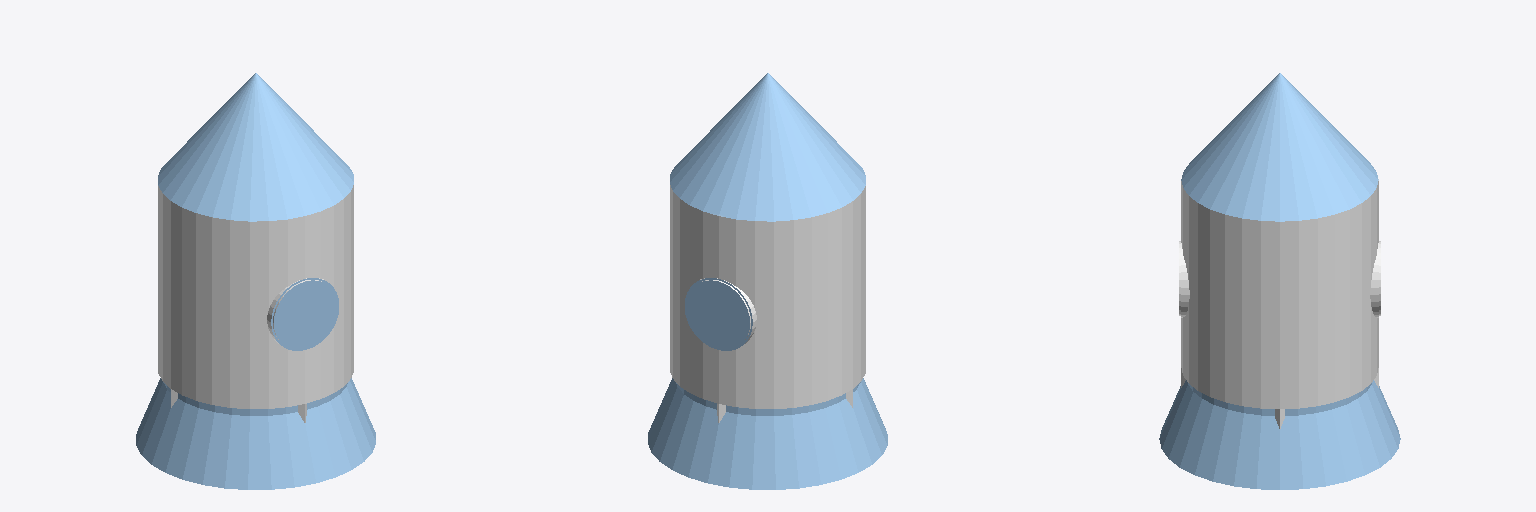
3 renders of one model, left to right at view 1: azimuth 30°, elevation 25°; view 2: azimuth 150°, elevation 25°; view 3: azimuth 270°, elevation 25°, orthographic.
Visible parts, largest first — view 1: rocket; view 2: rocket; view 3: rocket.
Part boxes in pixels (left/top/right/bottom): rocket: left=136, top=73, right=375, bottom=489; rocket: left=648, top=73, right=887, bottom=489; rocket: left=1159, top=73, right=1400, bottom=489.
Bounding box in the file's own units: 2.45 × 4.1 × 2.45.
Materials: 1 (1 with a texture image).